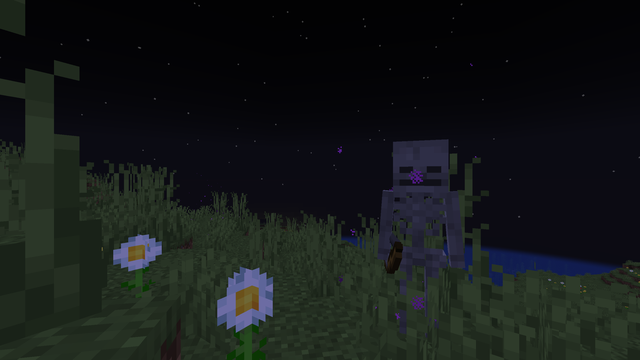squelettes: (380, 139, 463, 354)
